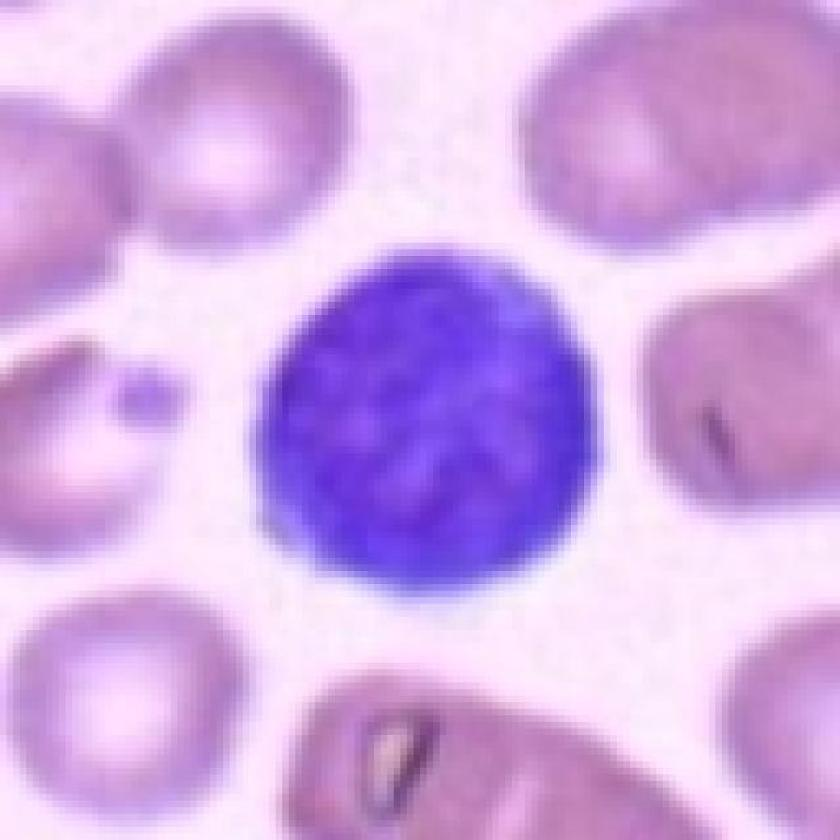lymphocyte: (241, 231, 614, 604)
